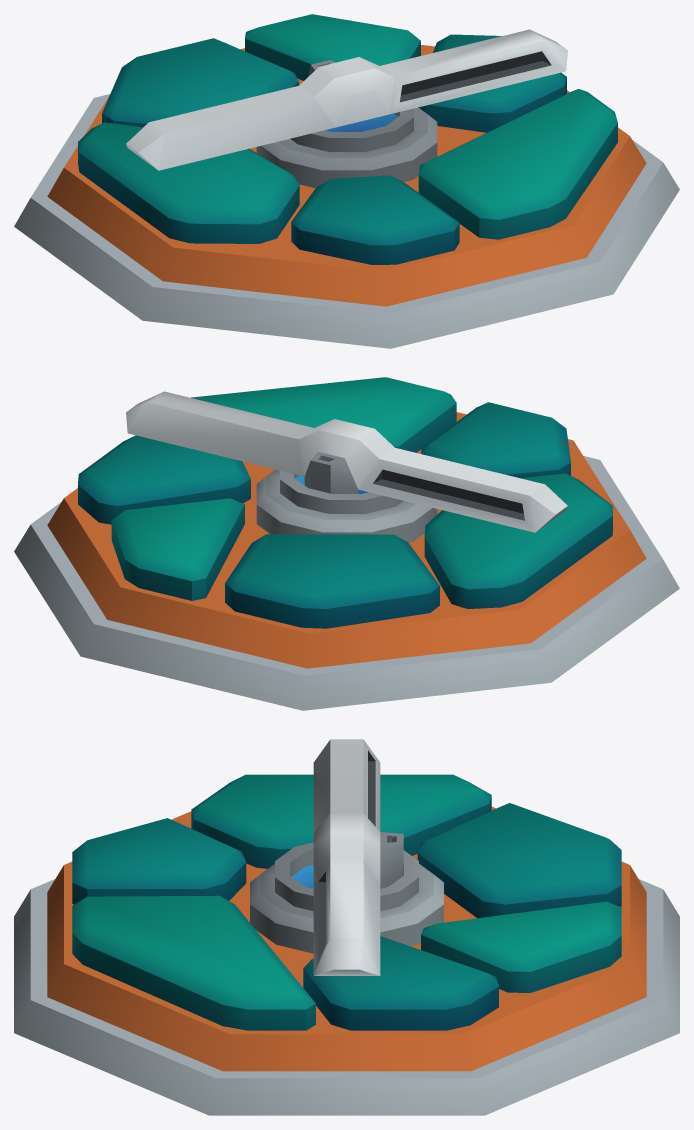
File: space_farm_large_sprinkler.gltf
3 views of the same model, one above another, from view 1: azimuth 30°, elevation 25°; view 2: azimuth 150°, elevation 25°; view 3: azimuth 270°, elevation 25° (orthographic). The views are drawn at different scales.
Parts seen in each view (by area): view 1: space_farm_large_sprinkler, sprinkler; view 2: space_farm_large_sprinkler, sprinkler; view 3: space_farm_large_sprinkler, sprinkler.
Boxes of the visible parts, x1,y1,x2,y2 form: space_farm_large_sprinkler: (14, 14, 679, 348); sprinkler: (126, 29, 567, 170); space_farm_large_sprinkler: (14, 377, 679, 710); sprinkler: (126, 391, 567, 532); space_farm_large_sprinkler: (14, 774, 679, 1115); sprinkler: (313, 739, 403, 975).
Size of the model in its own units: 2 by 0.5 by 2.
Materials: 1 (1 with a texture image).
